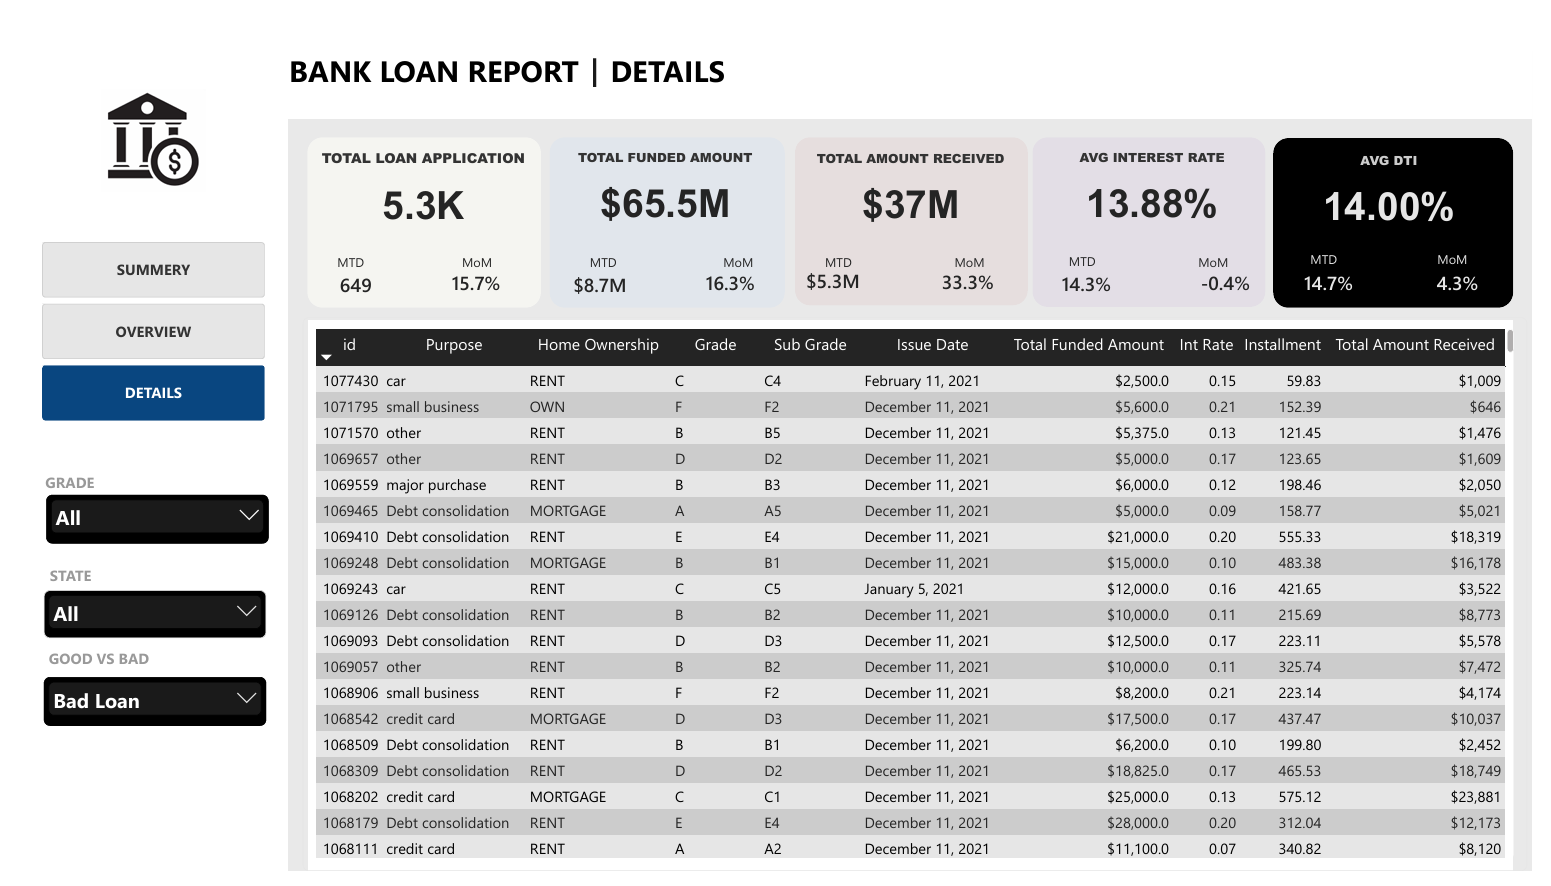

The page's visual inventory and layout, read from the dashboard file:
{"tool":"powerbi","page":{"name":"DETAILS","canvas":[1920,1080],"ordinal":2},"visuals":[{"type":"shape","box":[0,0,1920.4,126.8],"z":0},{"type":"shape","box":[0,0,344,1080],"z":1000},{"type":"shape","box":[368.3,149.7,296,216],"z":2000},{"type":"cardVisual","fields":{"Data":["bank_loan.TOTAL LOAN APPLICATION"]},"box":[368.3,146,294.4,135.6],"z":3000},{"type":"cardVisual","fields":{"Data":["bank_loan.MTD"]},"box":[392.5,305,85,61.2],"z":4000},{"type":"cardVisual","fields":{"Data":["bank_loan.MoM"]},"box":[535,297.5,114.3,72.9],"z":5000},{"type":"shape","box":[674.8,149.8,298.6,215.7],"z":6000},{"type":"cardVisual","fields":{"Data":["bank_loan.TOTAL FUND"]},"box":[683.3,146,277.9,135.9],"z":7000},{"type":"cardVisual","fields":{"Data":["bank_loan.MTD funded amount"]},"box":[688.8,304.8,126.7,61],"z":8000},{"type":"textbox","box":[406.1,297.5,80.4,22.5],"z":9000},{"type":"textbox","box":[726.4,297.3,52.2,22.2],"z":10000},{"type":"cardVisual","fields":{"Data":["bank_loan.MoM funded amount"]},"box":[857.1,297.1,115.7,74.3],"z":11000},{"type":"textbox","box":[563.6,297.3,88.7,36.6],"z":12000},{"type":"textbox","box":[895.5,297.3,88.7,36.6],"z":13000},{"type":"shape","box":[985.5,150.2,295.7,212.9],"z":14000},{"type":"cardVisual","fields":{"Data":["bank_loan.TOTAL AMOUNT RECEIVED"]},"box":[984.1,147.3,297.8,135.6],"z":15000},{"type":"cardVisual","fields":{"Data":["bank_loan.MTD received amount"]},"box":[984.3,301.4,134.3,60],"z":16000},{"type":"textbox","box":[1023.6,297.3,43.3,23.3],"z":17000},{"type":"cardVisual","fields":{"Data":["bank_loan.MoM received amount"]},"box":[1155.7,295.7,118.6,72.9],"z":18000},{"type":"textbox","box":[1187.8,297.8,73.3,23.3],"z":19000},{"type":"shape","box":[1286.7,150,295,215],"z":20000},{"type":"cardVisual","fields":{"Data":["bank_loan.AVG INTEREST RATE"]},"box":[1300,146,277.9,135.9],"z":21000},{"type":"cardVisual","fields":{"Data":["bank_loan.MTD avg interest rate"]},"box":[1307.5,303.8,126.7,61],"z":22000},{"type":"textbox","box":[1333.2,296.1,45.4,23.1],"z":23000},{"type":"cardVisual","fields":{"Data":["bank_loan.MoM avg interest rate"]},"box":[1483.8,297.5,108.6,72.9],"z":24000},{"type":"textbox","box":[1497.3,297.3,55.7,37.1],"z":25000},{"type":"shape","box":[1592.2,151.1,303.3,214.4],"z":26000},{"type":"cardVisual","fields":{"Data":["bank_loan.AVG DTI"]},"box":[1600.3,149.8,277.9,135.9],"z":27000},{"type":"cardVisual","fields":{"Data":["bank_loan.MTD avg dti"]},"box":[1615,302.5,138.6,61.4],"z":28000},{"type":"textbox","box":[1639,294.1,46.2,23.1],"z":29000},{"type":"cardVisual","fields":{"Data":["bank_loan.MoM avg dti"]},"box":[1782.5,297.5,107.1,72.9],"z":30000},{"type":"textbox","box":[1800.5,294.1,88.7,36.6],"z":31000},{"type":"shape","box":[370,382,1526,698],"z":32000},{"type":"textbox","box":[752.2,40,200,61.1],"z":33000},{"type":"shape","box":[695,47.5,73.8,40],"z":34000},{"type":"textbox","box":[345,40,380,61.7],"z":35000},{"type":"tableEx","fields":{"Values":["bank_loan.id","bank_loan.purpose","bank_loan.home_ownership","bank_loan.grade","bank_loan.sub_grade","bank_loan.issue_date","bank_loan.TOTAL FUNDED AMOUNT","Sum(bank_loan.int_rate)","Sum(bank_loan.installment)","bank_loan.TOTAL AMOUNT RECEIVED"]},"box":[362,378,1552,702],"z":36000},{"type":"slicer","fields":{"Values":["bank_loan.address_state"]},"box":[34.5,724.3,282,61],"z":37000},{"type":"textbox","box":[3.5,693.3,130,62.5],"z":38000},{"type":"slicer","fields":{"Values":["bank_loan.Good v Bad Loan"]},"box":[34.5,834.3,282,62],"z":39000},{"type":"textbox","box":[38.9,798,130,62.5],"z":40000},{"type":"slicer","fields":{"Values":["bank_loan.grade"]},"box":[37.5,603.3,282,62],"z":41000},{"type":"textbox","box":[2.5,573.7,130,62.5],"z":42000},{"type":"pageNavigator","box":[31.6,282.5,282.5,227.5],"z":43000},{"type":"image","box":[88.3,90,170,130],"z":44000}]}

Visuals, with their boxes in screenshot pixels (x1, y1, x2, y2), scaled from the page's 1920x1080 canvas onto the 1551x886 screenshot:
shape: rect(0, 0, 1550, 104)
shape: rect(0, 0, 278, 885)
shape: rect(298, 123, 537, 300)
cardVisual - bank_loan.TOTAL LOAN APPLICATION: rect(298, 120, 535, 231)
cardVisual - bank_loan.MTD: rect(317, 250, 386, 300)
cardVisual - bank_loan.MoM: rect(432, 244, 525, 304)
shape: rect(545, 123, 786, 300)
cardVisual - bank_loan.TOTAL FUND: rect(552, 120, 776, 231)
cardVisual - bank_loan.MTD funded amount: rect(556, 250, 659, 300)
textbox: rect(328, 244, 393, 263)
textbox: rect(587, 244, 629, 262)
cardVisual - bank_loan.MoM funded amount: rect(692, 244, 786, 305)
textbox: rect(455, 244, 527, 274)
textbox: rect(723, 244, 795, 274)
shape: rect(796, 123, 1035, 298)
cardVisual - bank_loan.TOTAL AMOUNT RECEIVED: rect(795, 121, 1036, 232)
cardVisual - bank_loan.MTD received amount: rect(795, 247, 904, 296)
textbox: rect(827, 244, 862, 263)
cardVisual - bank_loan.MoM received amount: rect(934, 243, 1029, 302)
textbox: rect(960, 244, 1019, 263)
shape: rect(1039, 123, 1278, 299)
cardVisual - bank_loan.AVG INTEREST RATE: rect(1050, 120, 1275, 231)
cardVisual - bank_loan.MTD avg interest rate: rect(1056, 249, 1159, 299)
textbox: rect(1077, 243, 1114, 262)
cardVisual - bank_loan.MoM avg interest rate: rect(1199, 244, 1286, 304)
textbox: rect(1210, 244, 1255, 274)
shape: rect(1286, 124, 1531, 300)
cardVisual - bank_loan.AVG DTI: rect(1293, 123, 1517, 234)
cardVisual - bank_loan.MTD avg dti: rect(1305, 248, 1417, 299)
textbox: rect(1324, 241, 1361, 260)
cardVisual - bank_loan.MoM avg dti: rect(1440, 244, 1526, 304)
textbox: rect(1454, 241, 1526, 271)
shape: rect(299, 313, 1532, 885)
textbox: rect(608, 33, 769, 83)
shape: rect(561, 39, 621, 72)
textbox: rect(279, 33, 586, 83)
tableEx - bank_loan.id x bank_loan.purpose: rect(292, 310, 1546, 885)
slicer - bank_loan.address_state: rect(28, 594, 256, 644)
textbox: rect(3, 569, 108, 620)
slicer - bank_loan.Good v Bad Loan: rect(28, 684, 256, 735)
textbox: rect(31, 655, 136, 706)
slicer - bank_loan.grade: rect(30, 495, 258, 546)
textbox: rect(2, 471, 107, 522)
pageNavigator: rect(26, 232, 254, 418)
image: rect(71, 74, 209, 180)
